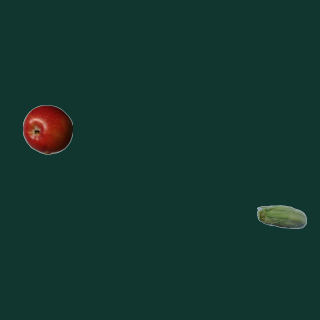Apple Braeburn: (22, 104, 72, 154)
Corn Husk: (256, 193, 306, 243)
